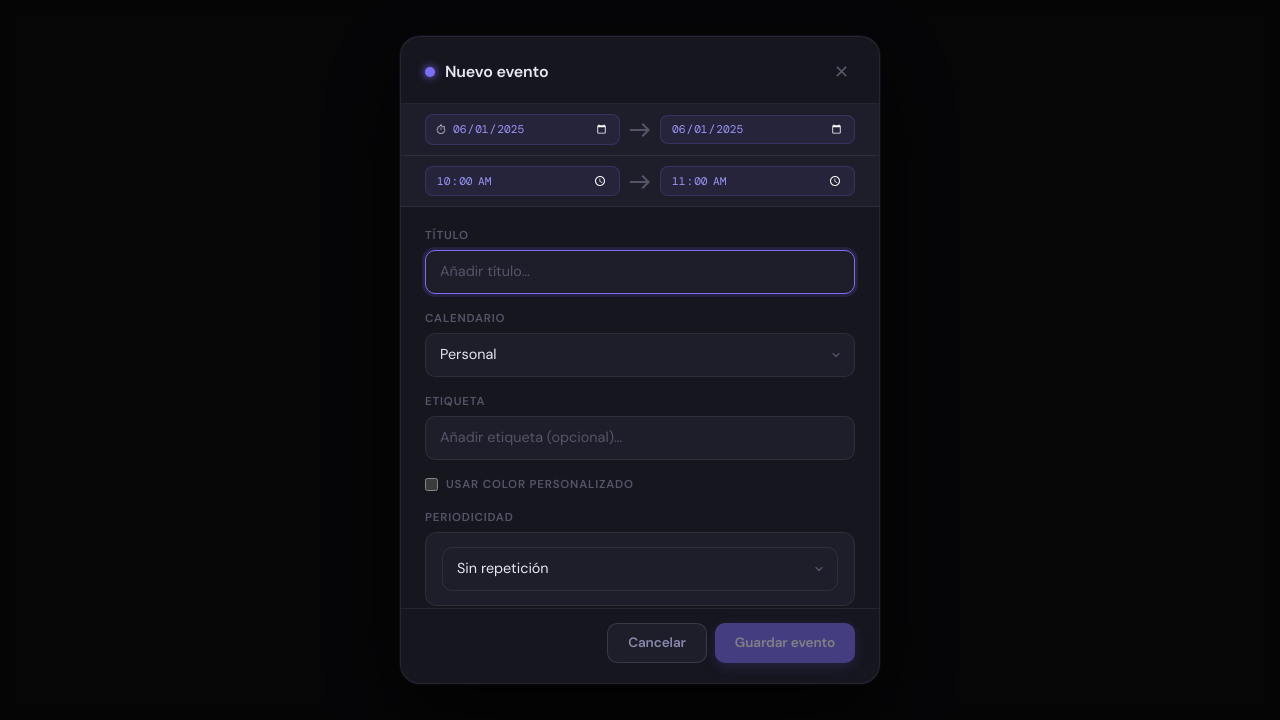
Test: AddEventDialog - botón guardar › se habilita al escribir un título
In the field with placeholder "Añadir título…": (640, 272) left=425, top=250, right=855, bottom=294, type "Mi evento"
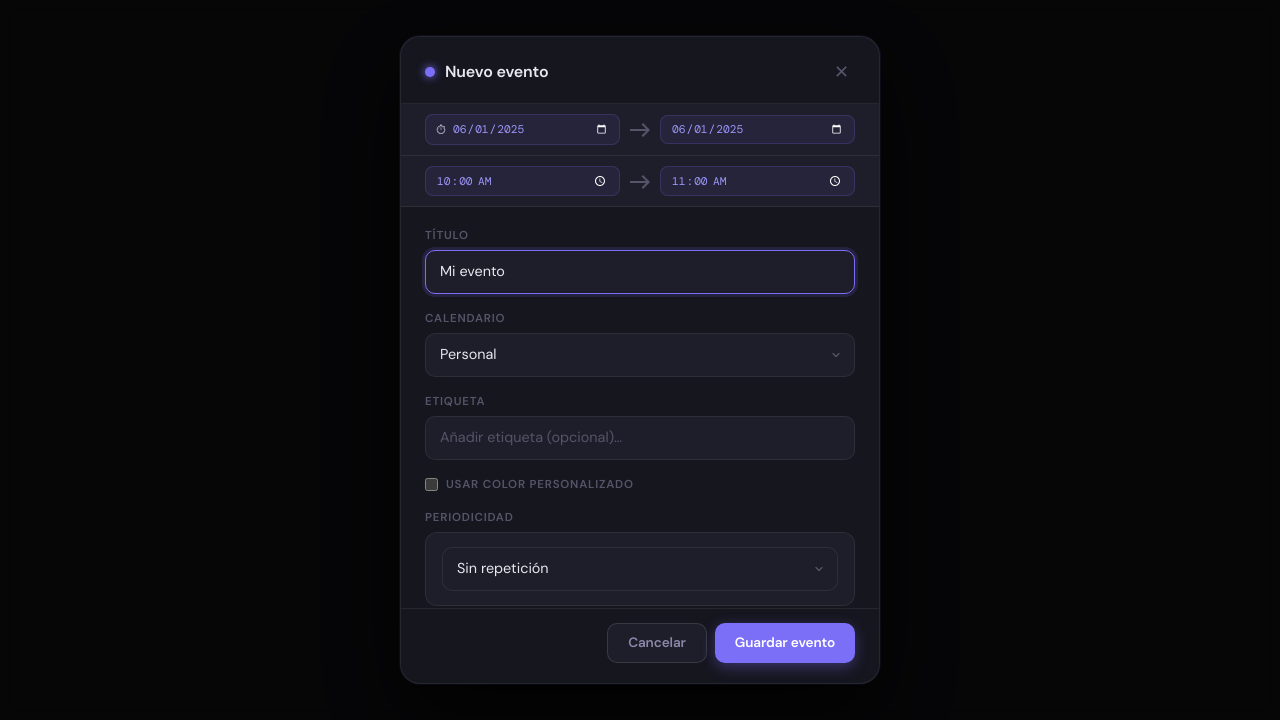
Result: the button "Guardar evento" is enabled at left=715, top=623, right=855, bottom=663
